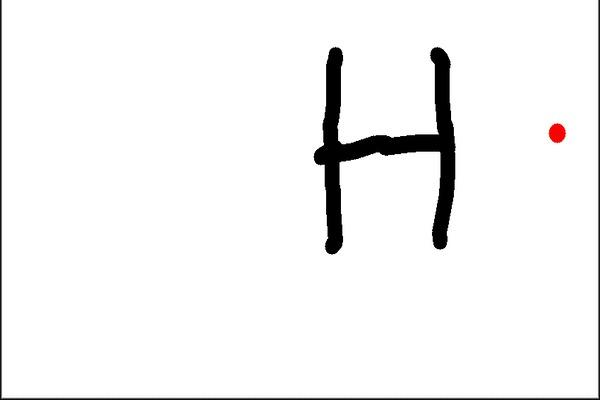H: (306, 40, 468, 260)
